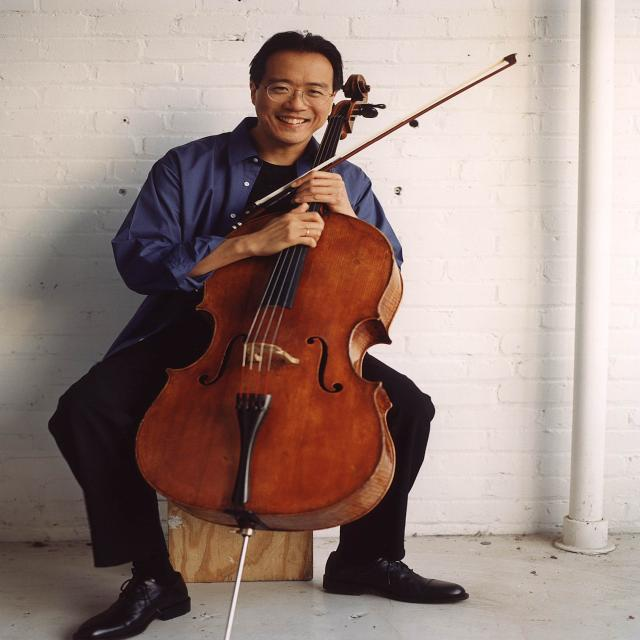cello: (133, 72, 411, 533)
